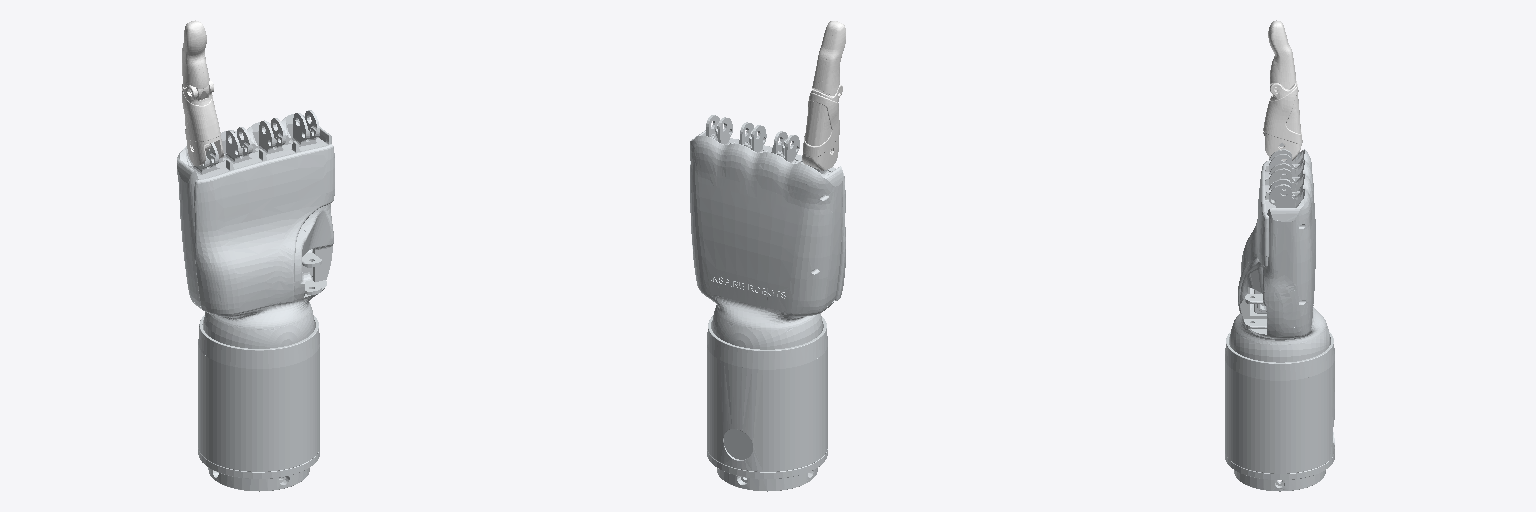
robot.urdf — inspire_hand_r:
<?xml version="1.0" encoding="utf-8"?>
<!-- This URDF was automatically created by SolidWorks to URDF Exporter! Originally created by [author] ([email redacted]) 
     Commit Version: 1.6.0-4-g7f85cfe  Build Version: 1.6.7995.38578
     For more information, please see http://wiki.ros.org/sw_urdf_exporter -->
<robot
  name="inspire_hand_r">
  <link
    name="base_link">
    <inertial>
      <origin
        xyz="-2.15561648839006E-08 -0.00191999281804056 0.0332314676154005"
        rpy="0 0 0" />
      <mass
        value="0.0695038586391028" />
      <inertia
        ixx="3.10214944966728E-05"
        ixy="6.95199575783958E-11"
        ixz="-1.97073434557092E-11"
        iyy="3.02480661265027E-05"
        iyz="-5.01501324812038E-07"
        izz="2.86515730078329E-05" />
    </inertial>
    <visual>
      <origin
        xyz="0 0 0"
        rpy="0 0 0" />
      <geometry>
        <mesh
          filename="package://inspire_hand_r/meshes/base_link.STL" />
      </geometry>
      <material
        name="">
        <color
          rgba="0.894117647058823 0.913725490196078 0.929411764705882 1" />
      </material>
    </visual>
    <collision>
      <origin
        xyz="0 0 0"
        rpy="0 0 0" />
      <geometry>
        <mesh
          filename="package://inspire_hand_r/meshes/base_link.STL" />
      </geometry>
    </collision>
  </link>
  <link
    name="Link_1">
    <inertial>
      <origin
        xyz="-0.0133419951922048 0.00575897820477875 -0.000150000894158946"
        rpy="0 0 0" />
      <mass
        value="0.00277890585457231" />
      <inertia
        ixx="1.09370485183287E-07"
        ixy="-1.48845839380445E-08"
        ixz="1.04480163452976E-14"
        iyy="1.49079739934158E-07"
        iyz="1.24013950499517E-15"
        izz="2.26417228011718E-07" />
    </inertial>
    <visual>
      <origin
        xyz="0 0 0"
        rpy="0 0 0" />
      <geometry>
        <mesh
          filename="package://inspire_hand_r/meshes/Link_1.STL" />
      </geometry>
      <material
        name="">
        <color
          rgba="0 1 1 1" />
      </material>
    </visual>
    <collision>
      <origin
        xyz="0 0 0"
        rpy="0 0 0" />
      <geometry>
        <mesh
          filename="package://inspire_hand_r/meshes/Link_1.STL" />
      </geometry>
    </collision>
  </link>
  <joint
    name="joint_1"
    type="revolute">
    <origin
      xyz="0.00015 0.00565 0.0782"
      rpy="1.5708 0 1.5708" />
    <parent
      link="base_link" />
    <child
      link="Link_1" />
    <axis
      xyz="-1 0 0" />
    <limit
      lower="-0.445"
      upper="0.445"
      effort="10"
      velocity="1" />
  </joint>
  <link
    name="Link_11">
    <inertial>
      <origin
        xyz="-0.00201547733411032 0.0510150201977158 -0.0137687123591791"
        rpy="0 0 0" />
      <mass
        value="0.141506121776802" />
      <inertia
        ixx="0.000109733477753849"
        ixy="2.40417904196419E-06"
        ixz="-1.74223281691751E-06"
        iyy="6.73457792880789E-05"
        iyz="1.87121289681864E-06"
        izz="7.13073727664869E-05" />
    </inertial>
    <visual>
      <origin
        xyz="0 0 0"
        rpy="0 0 0" />
      <geometry>
        <mesh
          filename="package://inspire_hand_r/meshes/Link_11.STL" />
      </geometry>
      <material
        name="">
        <color
          rgba="0.894117647058823 0.913725490196078 0.929411764705882 1" />
      </material>
    </visual>
    <collision>
      <origin
        xyz="0 0 0"
        rpy="0 0 0" />
      <geometry>
        <mesh
          filename="package://inspire_hand_r/meshes/Link_11.STL" />
      </geometry>
    </collision>
  </link>
  <joint
    name="joint_11"
    type="revolute">
    <origin
      xyz="-0.00565 0.0003 -0.01515"
      rpy="3.1416 0 -3.1416" />
    <parent
      link="Link_1" />
    <child
      link="Link_11" />
    <axis
      xyz="0 0 -1" />
    <limit
      lower="-0.3955"
      upper="0.386"
      effort="10"
      velocity="1" />
  </joint>
  <link
    name="R_thumb_proximal_base">
    <inertial>
      <origin
        xyz="-0.0048772 -0.010163 0.00044069"
        rpy="0 -3.1415926 0" />
      <mass
        value="0.0018869" />
      <inertia
        ixx="5.2002E-08"
        ixy="4.8353E-09"
        ixz="-6.6441E-09"
        iyy="6.7433E-08"
        iyz="5.4472E-10"
        izz="8.5319E-08" />
    </inertial>
    <visual>
      <origin
        xyz="0 0 0"
        rpy="0 0 0" />
      <geometry>
        <mesh
          filename="package://inspire_hand_r/meshes/R_thumb_proximal_base.STL" />
      </geometry>
      <material
        name="">
        <color
          rgba="1 1 1 1" />
      </material>
    </visual>
    <collision>
      <origin
        xyz="0 0 0"
        rpy="0 0 0" />
      <geometry>
        <mesh
          filename="package://inspire_hand_r/meshes/R_thumb_proximal_base.STL" />
      </geometry>
    </collision>
  </link>
  <joint
    name="R_thumb_MCP_joint1"
    type="revolute">
    <origin
      xyz="0.020450106 0.0395 -0.04"
      rpy="0 -1.57 0" />
    <parent
      link="Link_11" />
    <child
      link="R_thumb_proximal_base" />
    <axis
      xyz="0 -1 0" />
    <limit
      lower="0"
      upper="1.1"
      effort="50"
      velocity="1" />
  </joint>
  <link
    name="R_thumb_proximal">
    <inertial>
      <origin
        xyz="-3.8592E-05 0.02533 -0.0017007"
        rpy="0 0 0" />
      <mass
        value="0.0066075" />
      <inertia
        ixx="2.786E-06"
        ixy="1.673E-10"
        ixz="-1.3436E-09"
        iyy="8.9422E-07"
        iyz="-2.1394E-07"
        izz="2.4097E-06" />
    </inertial>
    <visual>
      <origin
        xyz="0 0 0"
        rpy="0 0 0" />
      <geometry>
        <mesh
          filename="package://inspire_hand_r/meshes/R_thumb_proximal.STL" />
      </geometry>
      <material
        name="">
        <color
          rgba="1 1 1 1" />
      </material>
    </visual>
    <collision>
      <origin
        xyz="0 0 0"
        rpy="0 0 0" />
      <geometry>
        <mesh
          filename="package://inspire_hand_r/meshes/R_thumb_proximal.STL" />
      </geometry>
    </collision>
  </link>
  <joint
    name="R_thumb_MCP_joint2"
    type="revolute">
    <origin
      xyz="-0.0115 -0.011843 0"
      rpy="5.55298075 1.5708 0" />
    <parent
      link="R_thumb_proximal_base" />
    <child
      link="R_thumb_proximal" />
    <axis
      xyz="1 0 0" />
    <limit
      lower="0"
      upper="0.5"
      effort="50"
      velocity="1" />
  </joint>
  <link
    name="R_thumb_intermediate">
    <inertial>
      <origin
        xyz="2.8437E-07 0.0072526 -0.0064293"
        rpy="0 0 0" />
      <mass
        value="0.0037847" />
      <inertia
        ixx="4.6531E-07"
        ixy="-3.454E-12"
        ixz="3.4344E-12"
        iyy="2.6858E-07"
        iyz="-6.414E-08"
        izz="4.2517E-07" />
    </inertial>
    <visual>
      <origin
        xyz="0 0 0"
        rpy="0 0 0" />
      <geometry>
        <mesh
          filename="package://inspire_hand_r/meshes/R_thumb_intermediate.STL" />
      </geometry>
      <material
        name="">
        <color
          rgba="1 1 1 1" />
      </material>
    </visual>
    <collision>
      <origin
        xyz="0 0 0"
        rpy="0 0 0" />
      <geometry>
        <mesh
          filename="package://inspire_hand_r/meshes/R_thumb_intermediate.STL" />
      </geometry>
    </collision>
  </link>
  <joint
    name="R_thumb_PIP_joint"
    type="revolute">
    <origin
      xyz="0 0.055863 0.0039241"
      rpy="-0.038299 0 0" />
    <parent
      link="R_thumb_proximal" />
    <child
      link="R_thumb_intermediate" />
    <axis
      xyz="1 0 0" />
    <limit
      lower="0"
      upper="1"
      effort="50"
      velocity="1" />
      <mimic 
        joint="R_thumb_MCP_joint2"
        multiplier="0.6"
        offset="0" />
  </joint>
  <link
    name="R_thumb_distal">
    <inertial>
      <origin
        xyz="-3.3054E-06 0.010511 -0.00057863"
        rpy="0 0 0" />
      <mass
        value="0.0033441" />
      <inertia
        ixx="2.0026E-07"
        ixy="-1.4303E-10"
        ixz="-5.6945E-11"
        iyy="8.711E-08"
        iyz="-2.4416E-08"
        izz="1.8974E-07" />
    </inertial>
    <visual>
      <origin
        xyz="0 0 0"
        rpy="0 0 0" />
      <geometry>
        <mesh
          filename="package://inspire_hand_r/meshes/R_thumb_distal.STL" />
      </geometry>
      <material
        name="">
        <color
          rgba="1 1 1 1" />
      </material>
    </visual>
    <collision>
      <origin
        xyz="0 0 0"
        rpy="0 0 0" />
      <geometry>
        <mesh
          filename="package://inspire_hand_r/meshes/R_thumb_distal.STL" />
      </geometry>
    </collision>
  </link>
  <joint
    name="R_thumb_DIP_joint"
    type="revolute">
    <origin
      xyz="0 0.022558 -0.0020717"
      rpy="-0.011642 0 0" />
    <parent
      link="R_thumb_intermediate" />
    <child
      link="R_thumb_distal" />
    <axis
      xyz="1 0 0" />
    <limit
      lower="0"
      upper="1.2"
      effort="50"
      velocity="1" />
      <mimic 
        joint="R_thumb_MCP_joint2"
        multiplier="0.8"
        offset="0" />
  </joint>
  <link
    name="R_index_proximal">
    <inertial>
      <origin
        xyz="0.0099008 0.011884 0.0016958"
        rpy="0 0 0" />
      <mass
        value="0.0042403" />
      <inertia
        ixx="6.9398E-07"
        ixy="-4.4846E-12"
        ixz="-3.0248E-12"
        iyy="2.3039E-07"
        iyz="-9.1779E-08"
        izz="6.434E-07" />
    </inertial>
    <visual>
      <origin
        xyz="0 0 0"
        rpy="0 0 0" />
      <geometry>
        <mesh
          filename="package://inspire_hand_r/meshes/R_index_proximal.STL" />
      </geometry>
      <material
        name="">
        <color
          rgba="1 1 1 1" />
      </material>
    </visual>
    <collision>
      <origin
        xyz="0 0 0"
        rpy="0 0 0" />
      <geometry>
        <mesh
          filename="package://inspire_hand_r/meshes/R_index_proximal.STL" />
      </geometry>
    </collision>
  </link>
  <joint
    name="R_index_MCP_joint"
    type="revolute">
    <origin
      xyz="-0.001114894 0.105 -0.032"
      rpy="-0.25 1.57 0" />
    <parent
      link="Link_11" />
    <child
      link="R_index_proximal" />
    <axis
      xyz="1 0 0" />
    <limit
      lower="0"
      upper="1.7"
      effort="50"
      velocity="1" />
  </joint>
  <link
    name="R_index_distal">
    <inertial>
      <origin
        xyz="0.0083258 0.019591 0.0019565"
        rpy="0 0 0" />
      <mass
        value="0.0045683" />
      <inertia
        ixx="7.8179E-07"
        ixy="9.0022E-13"
        ixz="5.6729E-13"
        iyy="1.5635E-07"
        iyz="-2.1007E-07"
        izz="7.0084E-07" />
    </inertial>
    <visual>
      <origin
        xyz="0 0 0"
        rpy="0 0 0" />
      <geometry>
        <mesh
          filename="package://inspire_hand_r/meshes/R_index_distal.STL" />
      </geometry>
      <material
        name="">
        <color
          rgba="1 1 1 1" />
      </material>
    </visual>
    <collision>
      <origin
        xyz="0 0 0"
        rpy="0 0 0" />
      <geometry>
        <mesh
          filename="package://inspire_hand_r/meshes/R_index_distal.STL" />
      </geometry>
    </collision>
  </link>
  <joint
    name="R_index_DIP_joint"
    type="revolute">
    <origin
      xyz="0.001575 0.030445 0.010275"
      rpy="0.044288 0 0" />
    <parent
      link="R_index_proximal" />
    <child
      link="R_index_distal" />
    <axis
      xyz="1 0 0" />
    <limit
      lower="0"
      upper="1.6"
      effort="50"
      velocity="1" />
      <mimic 
        joint="R_index_MCP_joint"
        multiplier="1"
        offset="0" />
  </joint>
  <link
    name="R_middle_proximal">
    <inertial>
      <origin
        xyz="0.008065 0.011884 0.0016958"
        rpy="0 0 0" />
      <mass
        value="0.0042403" />
      <inertia
        ixx="6.9397E-07"
        ixy="-6.0276E-12"
        ixz="-3.3971E-12"
        iyy="2.3039E-07"
        iyz="-9.1777E-08"
        izz="6.4339E-07" />
    </inertial>
    <visual>
      <origin
        xyz="0 0 0"
        rpy="0 0 0" />
      <geometry>
        <mesh
          filename="package://inspire_hand_r/meshes/R_middle_proximal.STL" />
      </geometry>
      <material
        name="">
        <color
          rgba="1 1 1 1" />
      </material>
    </visual>
    <collision>
      <origin
        xyz="0 0 0"
        rpy="0 0 0" />
      <geometry>
        <mesh
          filename="package://inspire_hand_r/meshes/R_middle_proximal.STL" />
      </geometry>
    </collision>
  </link>
  <joint
    name="R_middle_MCP_joint"
    type="revolute">
    <origin
      xyz="-0.001114894 0.105 -0.0148"
      rpy="-0.25 1.57 0" />
    <parent
      link="Link_11" />
    <child
      link="R_middle_proximal" />
    <axis
      xyz="1 0 0" />
    <limit
      lower="0"
      upper="1.68"
      effort="50"
      velocity="1" />
  </joint>
  <link
    name="R_middle_distal">
    <inertial>
      <origin
        xyz="0.0063978 0.020807 0.0018039"
        rpy="0 0 0" />
      <mass
        value="0.0050396" />
      <inertia
        ixx="9.8384E-07"
        ixy="5.3828E-12"
        ixz="3.4908E-12"
        iyy="1.7328E-07"
        iyz="-2.5594E-07"
        izz="8.914E-07" />
    </inertial>
    <visual>
      <origin
        xyz="0 0 0"
        rpy="0 0 0" />
      <geometry>
        <mesh
          filename="package://inspire_hand_r/meshes/R_middle_distal.STL" />
      </geometry>
      <material
        name="">
        <color
          rgba="1 1 1 1" />
      </material>
    </visual>
    <collision>
      <origin
        xyz="0 0 0"
        rpy="0 0 0" />
      <geometry>
        <mesh
          filename="package://inspire_hand_r/meshes/R_middle_distal.STL" />
      </geometry>
    </collision>
  </link>
  <joint
    name="R_middle_DIP_joint"
    type="revolute">
    <origin
      xyz="0.0016673 0.030445 0.010275"
      rpy="0.071413 0 0" />
    <parent
      link="R_middle_proximal" />
    <child
      link="R_middle_distal" />
    <axis
      xyz="1 0 0" />
    <limit
      lower="0"
      upper="1.6"
      effort="50"
      velocity="1" />
      <mimic 
        joint="R_middle_MCP_joint"
        multiplier="1"
        offset="0" />
  </joint>
  <link
    name="R_ring_proximal">
    <inertial>
      <origin
        xyz="0.0080207 0.011884 0.0016959"
        rpy="0 0 0" />
      <mass
        value="0.0042403" />
      <inertia
        ixx="6.9397E-07"
        ixy="-6.088E-12"
        ixz="-3.1846E-12"
        iyy="2.3039E-07"
        iyz="-9.1776E-08"
        izz="6.4339E-07" />
    </inertial>
    <visual>
      <origin
        xyz="0 0 0"
        rpy="0 0 0" />
      <geometry>
        <mesh
          filename="package://inspire_hand_r/meshes/R_ring_proximal.STL" />
      </geometry>
      <material
        name="">
        <color
          rgba="1 1 1 1" />
      </material>
    </visual>
    <collision>
      <origin
        xyz="0 0 0"
        rpy="0 0 0" />
      <geometry>
        <mesh
          filename="package://inspire_hand_r/meshes/R_ring_proximal.STL" />
      </geometry>
    </collision>
  </link>
  <joint
    name="R_ring_MCP_joint"
    type="revolute">
    <origin
      xyz="-0.001114894 0.105 0.0042"
      rpy="-0.25 1.57 0" />
    <parent
      link="Link_11" />
    <child
      link="R_ring_proximal" />
    <axis
      xyz="1 0 0" />
    <limit
      lower="0"
      upper="1.7"
      effort="50"
      velocity="1" />
  </joint>
  <link
    name="R_ring_distal">
    <inertial>
      <origin
        xyz="0.0080209 0.019591 0.0019565"
        rpy="0 0 0" />
      <mass
        value="0.0045683" />
      <inertia
        ixx="7.8177E-07"
        ixy="4.448E-13"
        ixz="7.2441E-13"
        iyy="1.5635E-07"
        iyz="-2.1007E-07"
        izz="7.0082E-07" />
    </inertial>
    <visual>
      <origin
        xyz="0 0 0"
        rpy="0 0 0" />
      <geometry>
        <mesh
          filename="package://inspire_hand_r/meshes/R_ring_distal.STL" />
      </geometry>
      <material
        name="">
        <color
          rgba="1 1 1 1" />
      </material>
    </visual>
    <collision>
      <origin
        xyz="0 0 0"
        rpy="0 0 0" />
      <geometry>
        <mesh
          filename="package://inspire_hand_r/meshes/R_ring_distal.STL" />
      </geometry>
    </collision>
  </link>
  <joint
    name="R_ring_DIP_joint"
    type="revolute">
    <origin
      xyz="0 0.030445 0.010275"
      rpy="0.039748 0 0" />
    <parent
      link="R_ring_proximal" />
    <child
      link="R_ring_distal" />
    <axis
      xyz="1 0 0" />
    <limit
      lower="0"
      upper="1.6"
      effort="50"
      velocity="1" />
      <mimic 
        joint="R_ring_MCP_joint"
        multiplier="1"
        offset="0" />
  </joint>
  <link
    name="R_pinky_proximal">
    <inertial>
      <origin
        xyz="-0.00109857746425979 0.0119539776675407 -0.00599985649237321"
        rpy="0 0 0" />
      <mass
        value="0.0042403380627586" />
      <inertia
        ixx="6.62603679732664E-07"
        ixy="1.09703050225313E-08"
        ixz="1.78060753387509E-12"
        iyy="2.1117956833567E-07"
        iyz="6.56464477026846E-12"
        izz="6.9397827435971E-07" />
    </inertial>
    <visual>
      <origin
        xyz="0 0 0"
        rpy="0 0 0" />
      <geometry>
        <mesh
          filename="package://inspire_hand_r/meshes/R_pinky_proximal.STL" />
      </geometry>
      <material
        name="">
        <color
          rgba="1 1 1 1" />
      </material>
    </visual>
    <collision>
      <origin
        xyz="0 0 0"
        rpy="0 0 0" />
      <geometry>
        <mesh
          filename="package://inspire_hand_r/meshes/R_pinky_proximal.STL" />
      </geometry>
    </collision>
  </link>
  <joint
    name="R_pinky_MCP_joint"
    type="revolute">
    <origin
      xyz="-0.001114894 0.105 0.0218"
      rpy="0.11 0 0" />
    <parent
      link="Link_11" />
    <child
      link="R_pinky_proximal" />
    <axis
      xyz="0 0 -1" />
    <limit
      lower="0"
      upper="1.7"
      effort="10"
      velocity="1" />
  </joint>
  <link
    name="R_pinky_distal">
    <inertial>
      <origin
        xyz="0.0162003808271628 0.00249068240414548 -0.00499685545685422"
        rpy="0 0 0" />
      <mass
        value="0.00359958667326049" />
      <inertia
        ixx="7.01659328003998E-08"
        ixy="4.10553434047921E-08"
        ixz="-5.85717741286973E-11"
        iyy="4.39207898863221E-07"
        iyz="-3.72226275574817E-11"
        izz="4.48674555889475E-07" />
    </inertial>
    <visual>
      <origin
        xyz="0 0 0"
        rpy="0 0 0" />
      <geometry>
        <mesh
          filename="package://inspire_hand_r/meshes/R_pinky_distal.STL" />
      </geometry>
      <material
        name="">
        <color
          rgba="1 1 1 1" />
      </material>
    </visual>
    <collision>
      <origin
        xyz="0 0 0"
        rpy="0 0 0" />
      <geometry>
        <mesh
          filename="package://inspire_hand_r/meshes/R_pinky_distal.STL" />
      </geometry>
    </collision>
  </link>
  <joint
    name="R_pinky_DIP_joint"
    type="revolute">
    <origin
      xyz="0.0029548 0.031996 -0.001"
      rpy="0 0 1.5708" />
    <parent
      link="R_pinky_proximal" />
    <child
      link="R_pinky_distal" />
    <axis
      xyz="0 0 -1" />
    <limit
      lower="0"
      upper="1.6"
      effort="10"
      velocity="1" />
      <mimic 
        joint="R_pinky_MCP_joint"
        multiplier="1"
        offset="0" />
  </joint>
</robot>

--- What the picture shows (computed from the rendered views, not written in the file) ---
3 views of the same robot in one strip: view 1: azimuth 30°, elevation 25°; view 2: azimuth 150°, elevation 25°; view 3: azimuth 270°, elevation 25° (orthographic).
Model inspire_hand_r with 15 links and 14 joints (14 revolute), rooted at base_link, posed all joints at 0.
Visible links, largest first — view 1: Link_11, base_link, R_pinky_proximal, R_pinky_distal; view 2: Link_11, base_link, R_pinky_proximal, R_pinky_distal; view 3: Link_11, base_link, R_pinky_proximal, R_pinky_distal.
Boxes of the visible links, x1,y1,x2,y2 form: Link_11: (177, 110, 334, 348); base_link: (198, 315, 319, 491); R_pinky_proximal: (182, 80, 223, 165); R_pinky_distal: (182, 20, 209, 100); Link_11: (690, 115, 845, 349); base_link: (707, 316, 827, 491); R_pinky_proximal: (802, 85, 842, 170); R_pinky_distal: (812, 21, 845, 95); Link_11: (1230, 143, 1329, 362); base_link: (1225, 332, 1334, 491); R_pinky_proximal: (1263, 81, 1302, 160); R_pinky_distal: (1268, 20, 1295, 90).
Bounding box of the posed robot: 0.0827 × 0.06 × 0.2533 m (x, y, z).
5 mesh visuals loaded from 15 distinct referenced files (5 binary STL); not drawn: 10 (reference not matched to a file when rendering).